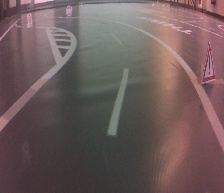warning sign: (200, 40, 217, 85)
